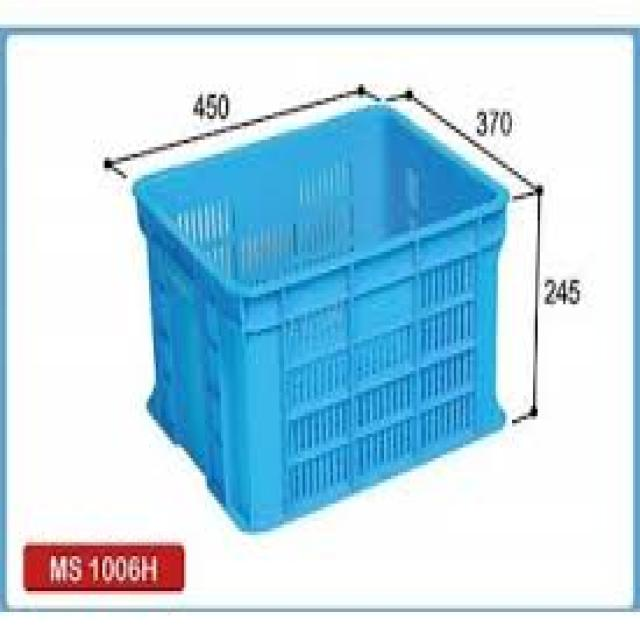basket: (64, 47, 594, 554)
